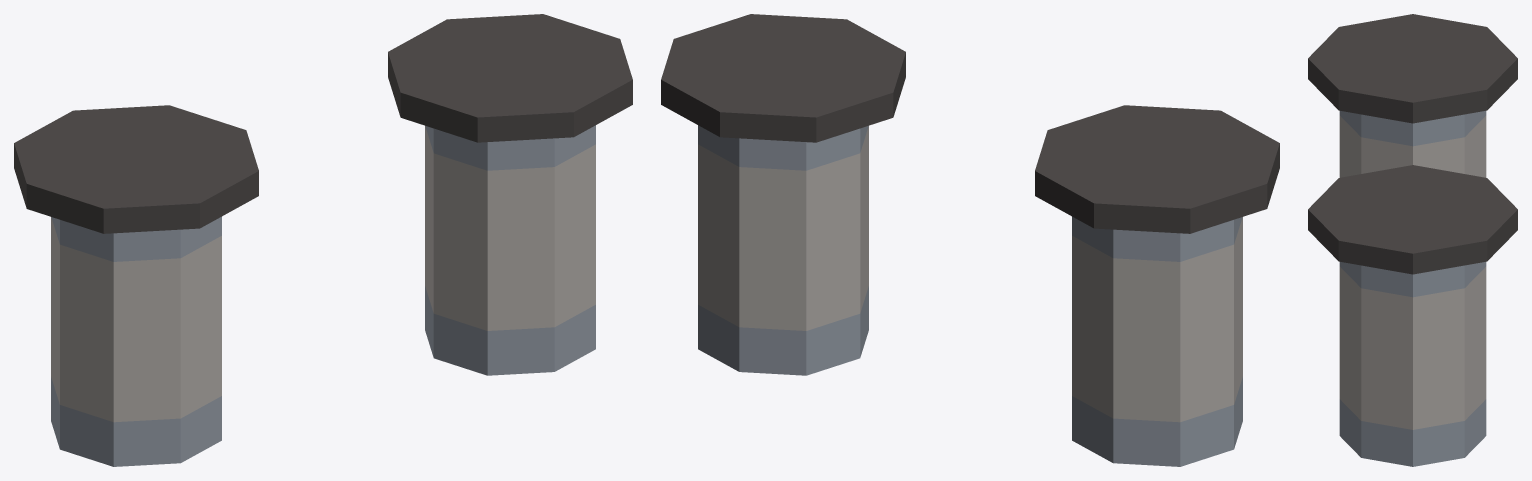
The model's file is Stake001.fbx.
3 views of the same model, side by side, from view 1: azimuth 30°, elevation 25°; view 2: azimuth 150°, elevation 25°; view 3: azimuth 270°, elevation 25° (orthographic). The views are drawn at different scales.
Parts seen in each view (by area): view 1: zhuangzi1; view 2: zhuangzi1; view 3: zhuangzi1.
Part boxes in pixels (<box>): zhuangzi1: <box>14,14,632,466</box>; zhuangzi1: <box>661,14,1279,466</box>; zhuangzi1: <box>1308,14,1517,466</box>.
Size of the model in its own units: 168 by 73.92 by 62.05.
